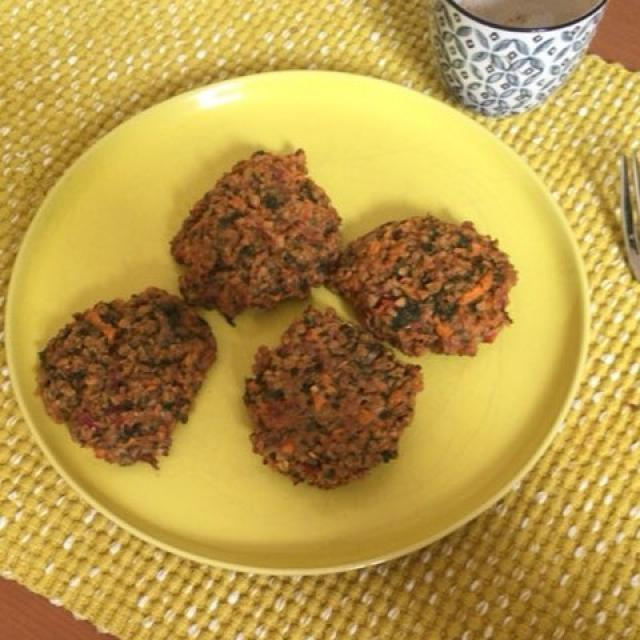oats: (52, 160, 508, 498)
